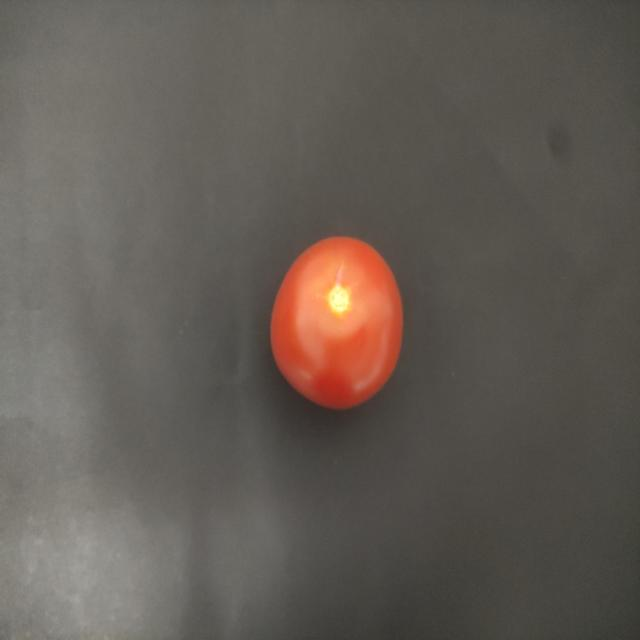kirmizi: (266, 221, 411, 426)
